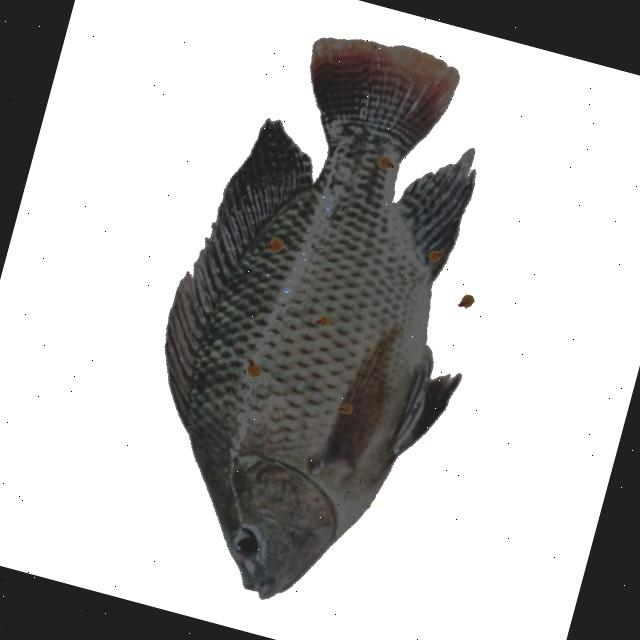Parasitic Disease: (165, 38, 473, 597), (166, 39, 473, 597)
